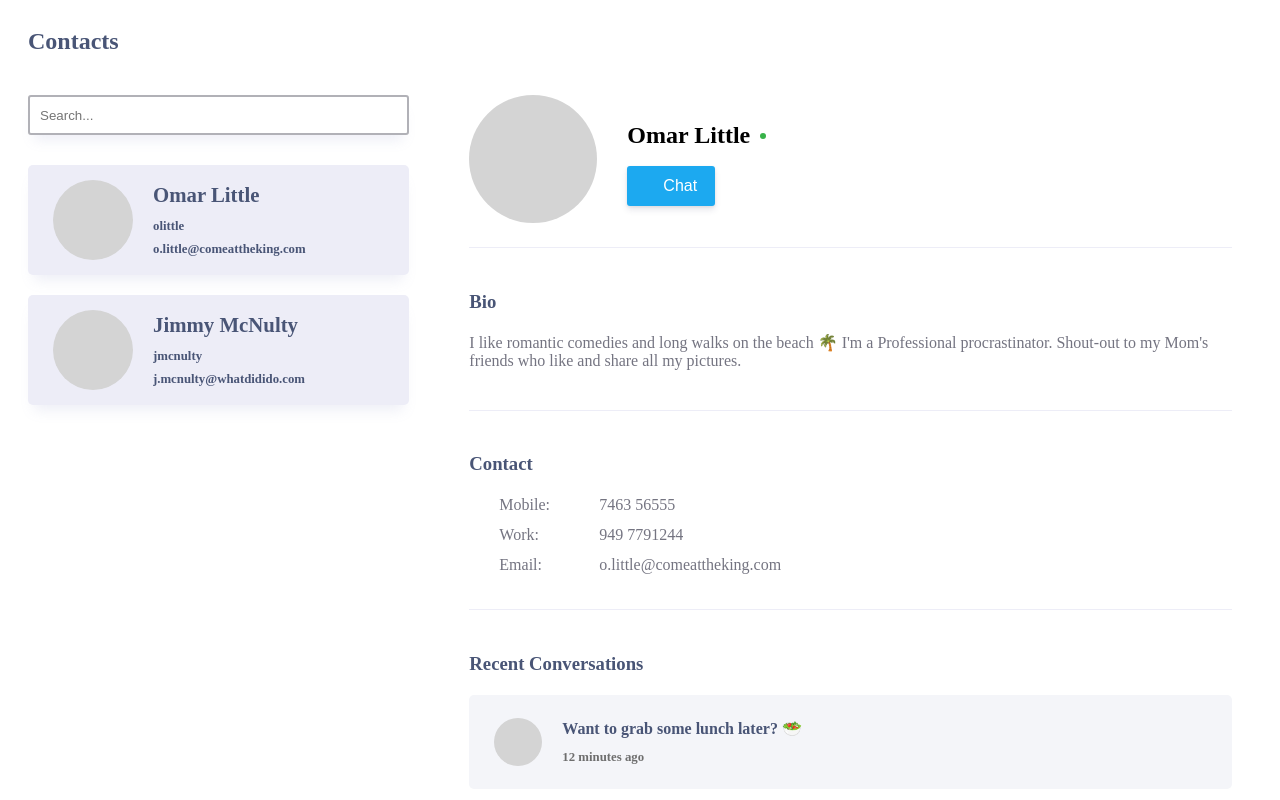
Test case: Searching Contacts › should clear search results correctly
The width and height of the screenshot is (1280, 800).
Type in some search text
Type "Jimmy" into the search field at [219, 115], box [28,95,409,135]
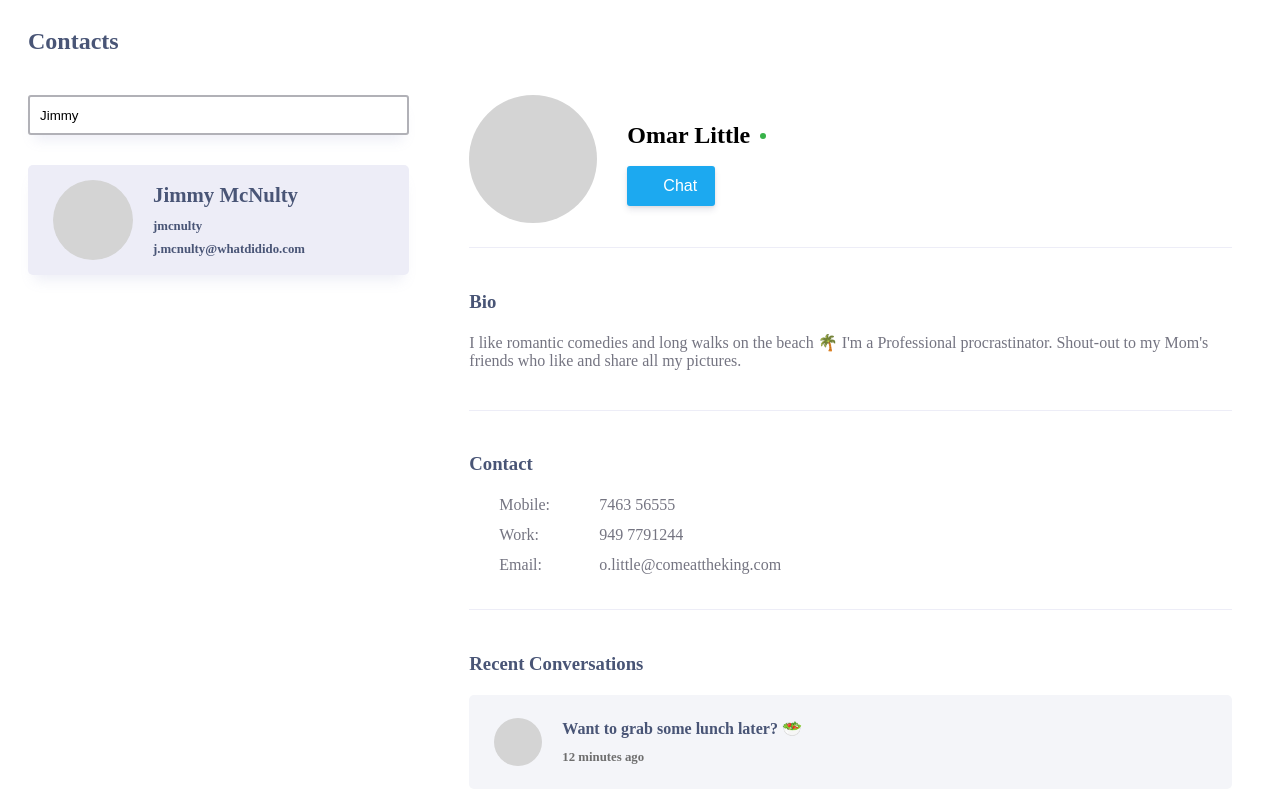
Click the text "Jimmy McNulty" at [229, 195], box [153,183,305,207]
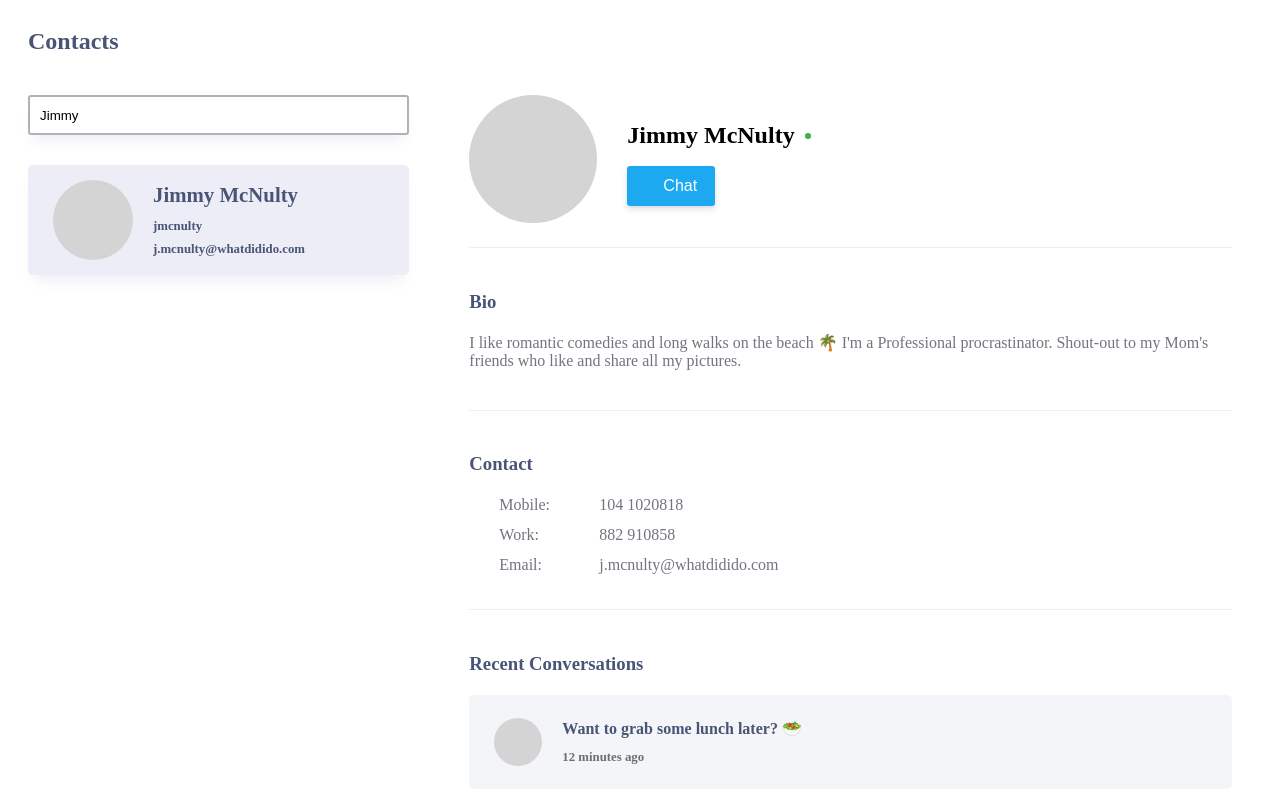
expect the heading "Omar Little" is gone: met
Clear search text
Clear the search field at [219, 115], box [28,95,409,135]
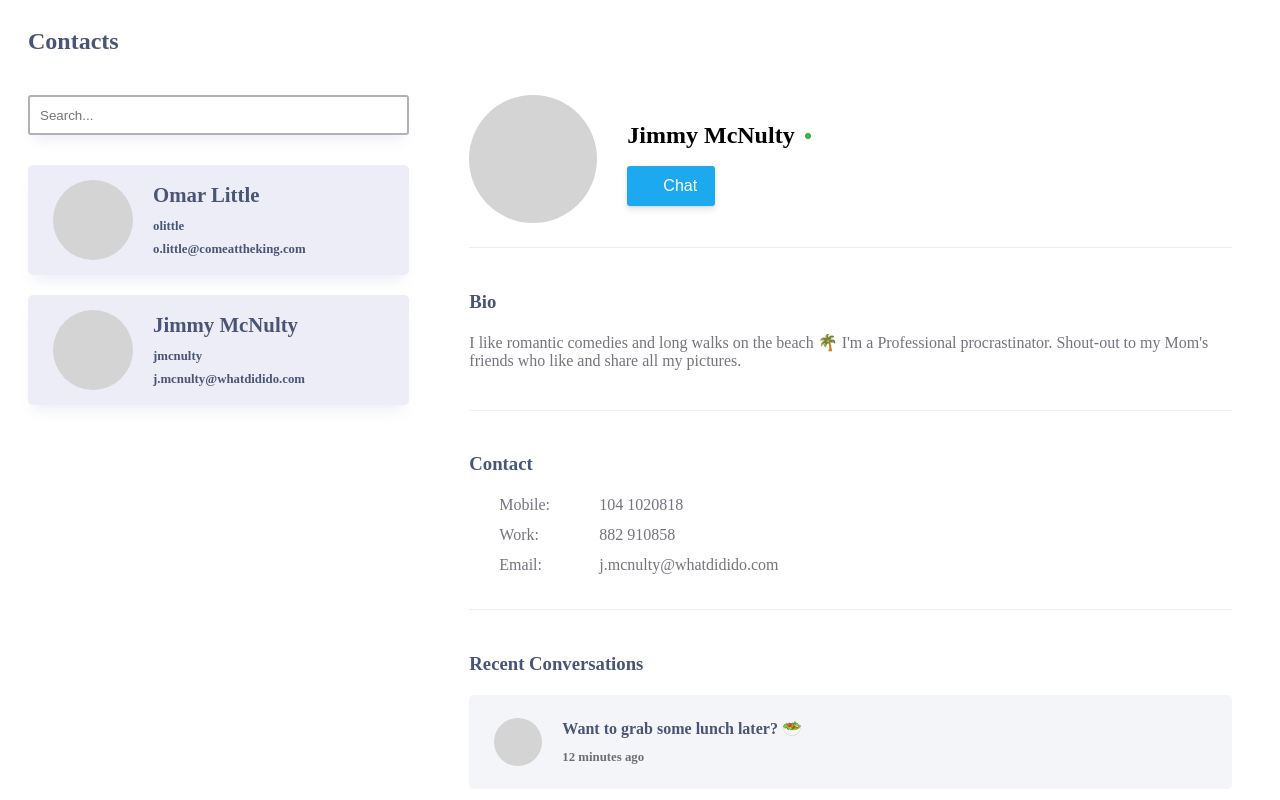
expect the text "Jimmy McNulty" is shown: met, box [153,313,305,337]
expect the text "Omar Little" is shown: met, box [153,183,260,206]
